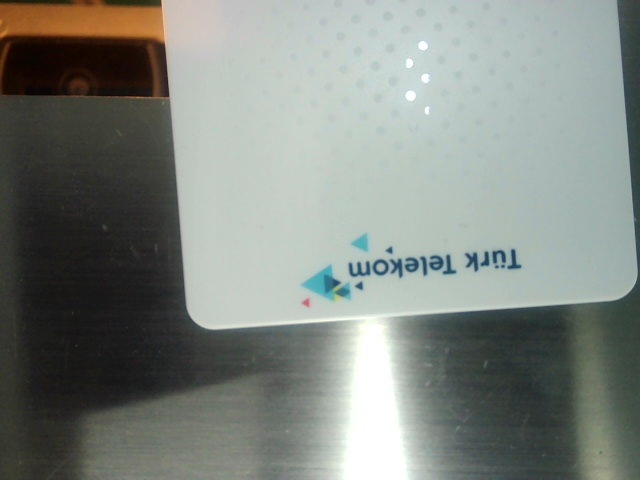AQ_TURKTelekom: (277, 231, 528, 311)
